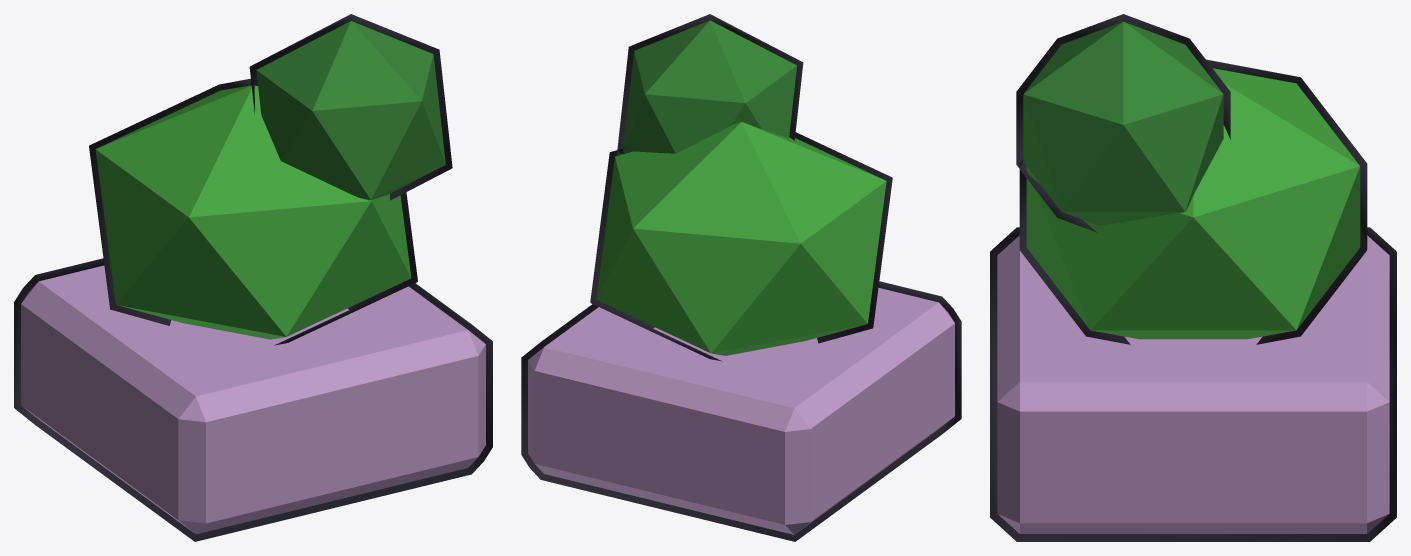
File: planter.glb
3 views of the same model, side by side, from view 1: azimuth 30°, elevation 25°; view 2: azimuth 150°, elevation 25°; view 3: azimuth 270°, elevation 25° (orthographic). The views are drawn at different scales.
Visible parts, largest first — view 1: planter; view 2: planter; view 3: planter.
Boxes of the visible parts, left/top/right/bottom form: planter: left=14, top=14, right=492, bottom=541; planter: left=521, top=14, right=961, bottom=541; planter: left=990, top=14, right=1396, bottom=541.
Bounding box in the file's own units: 1.45 × 1.93 × 1.45.
